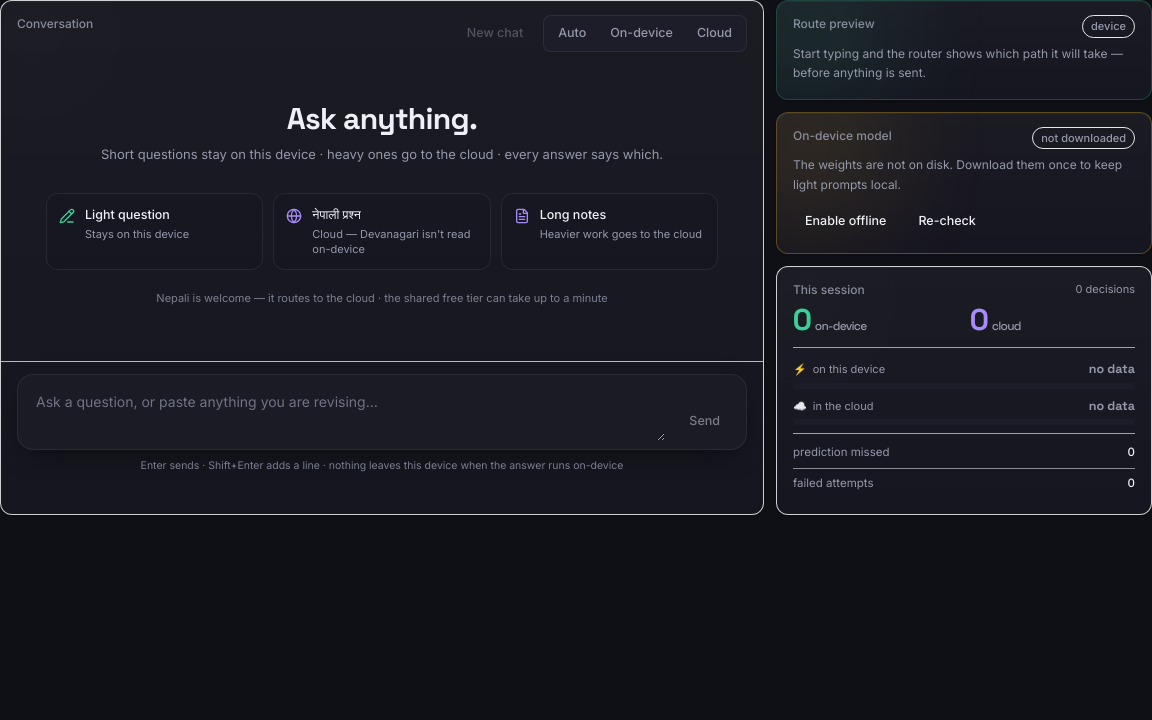
Test case: AskPage › offers a retry when inference fails, instead of a dead end
Type "Why fails?" into the text box named "Your question" at (346, 412), box left=26, top=383, right=665, bottom=441
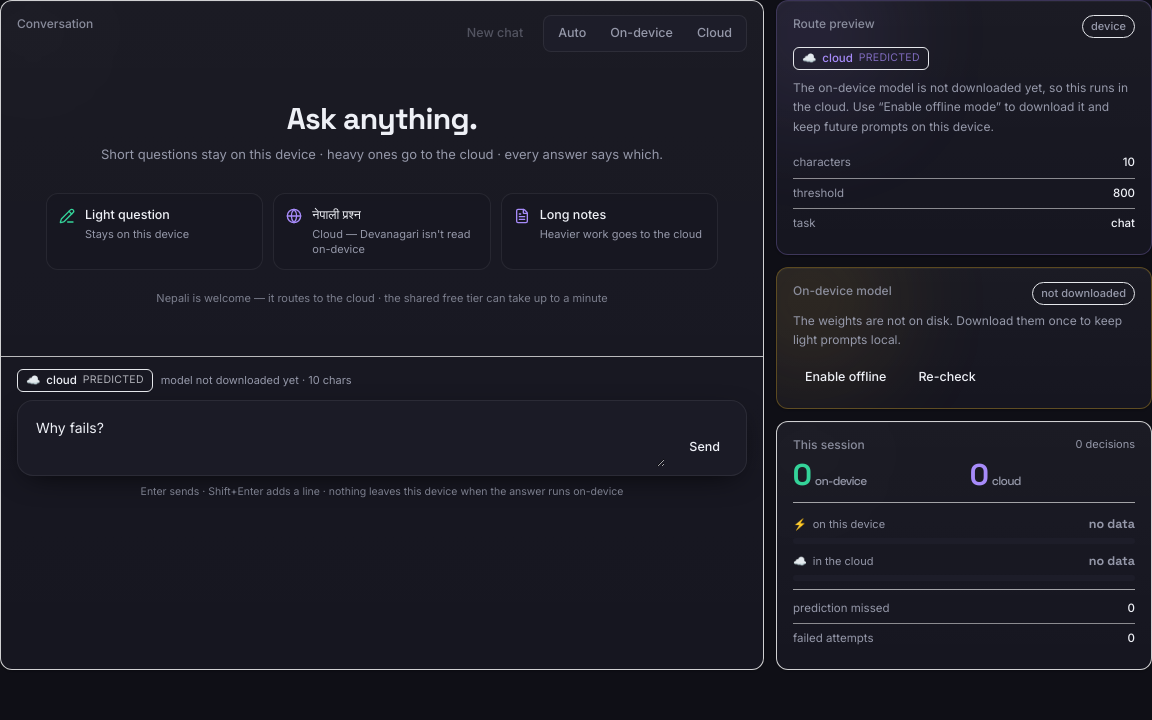
Click the button "Send" at (705, 447), box left=673, top=429, right=736, bottom=465
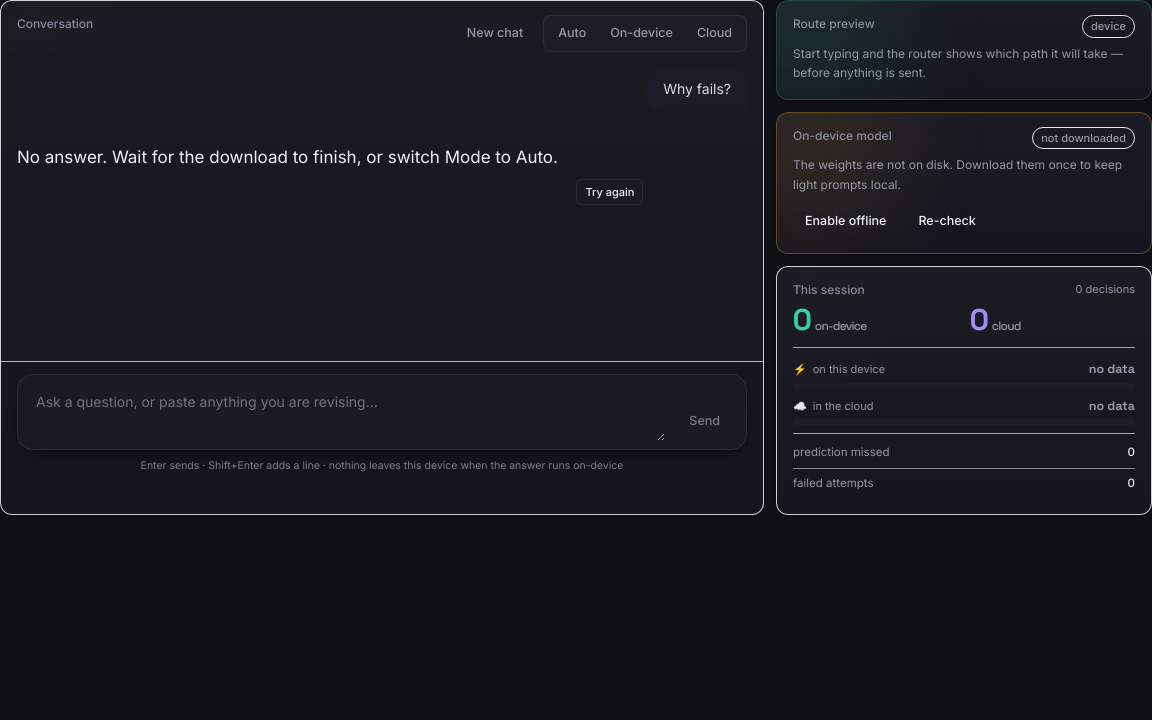
Expected: the button "Try again" is shown, left=576, top=178, right=644, bottom=205
Expected: the text "Wait for the download to finish" is shown, left=17, top=146, right=558, bottom=166
